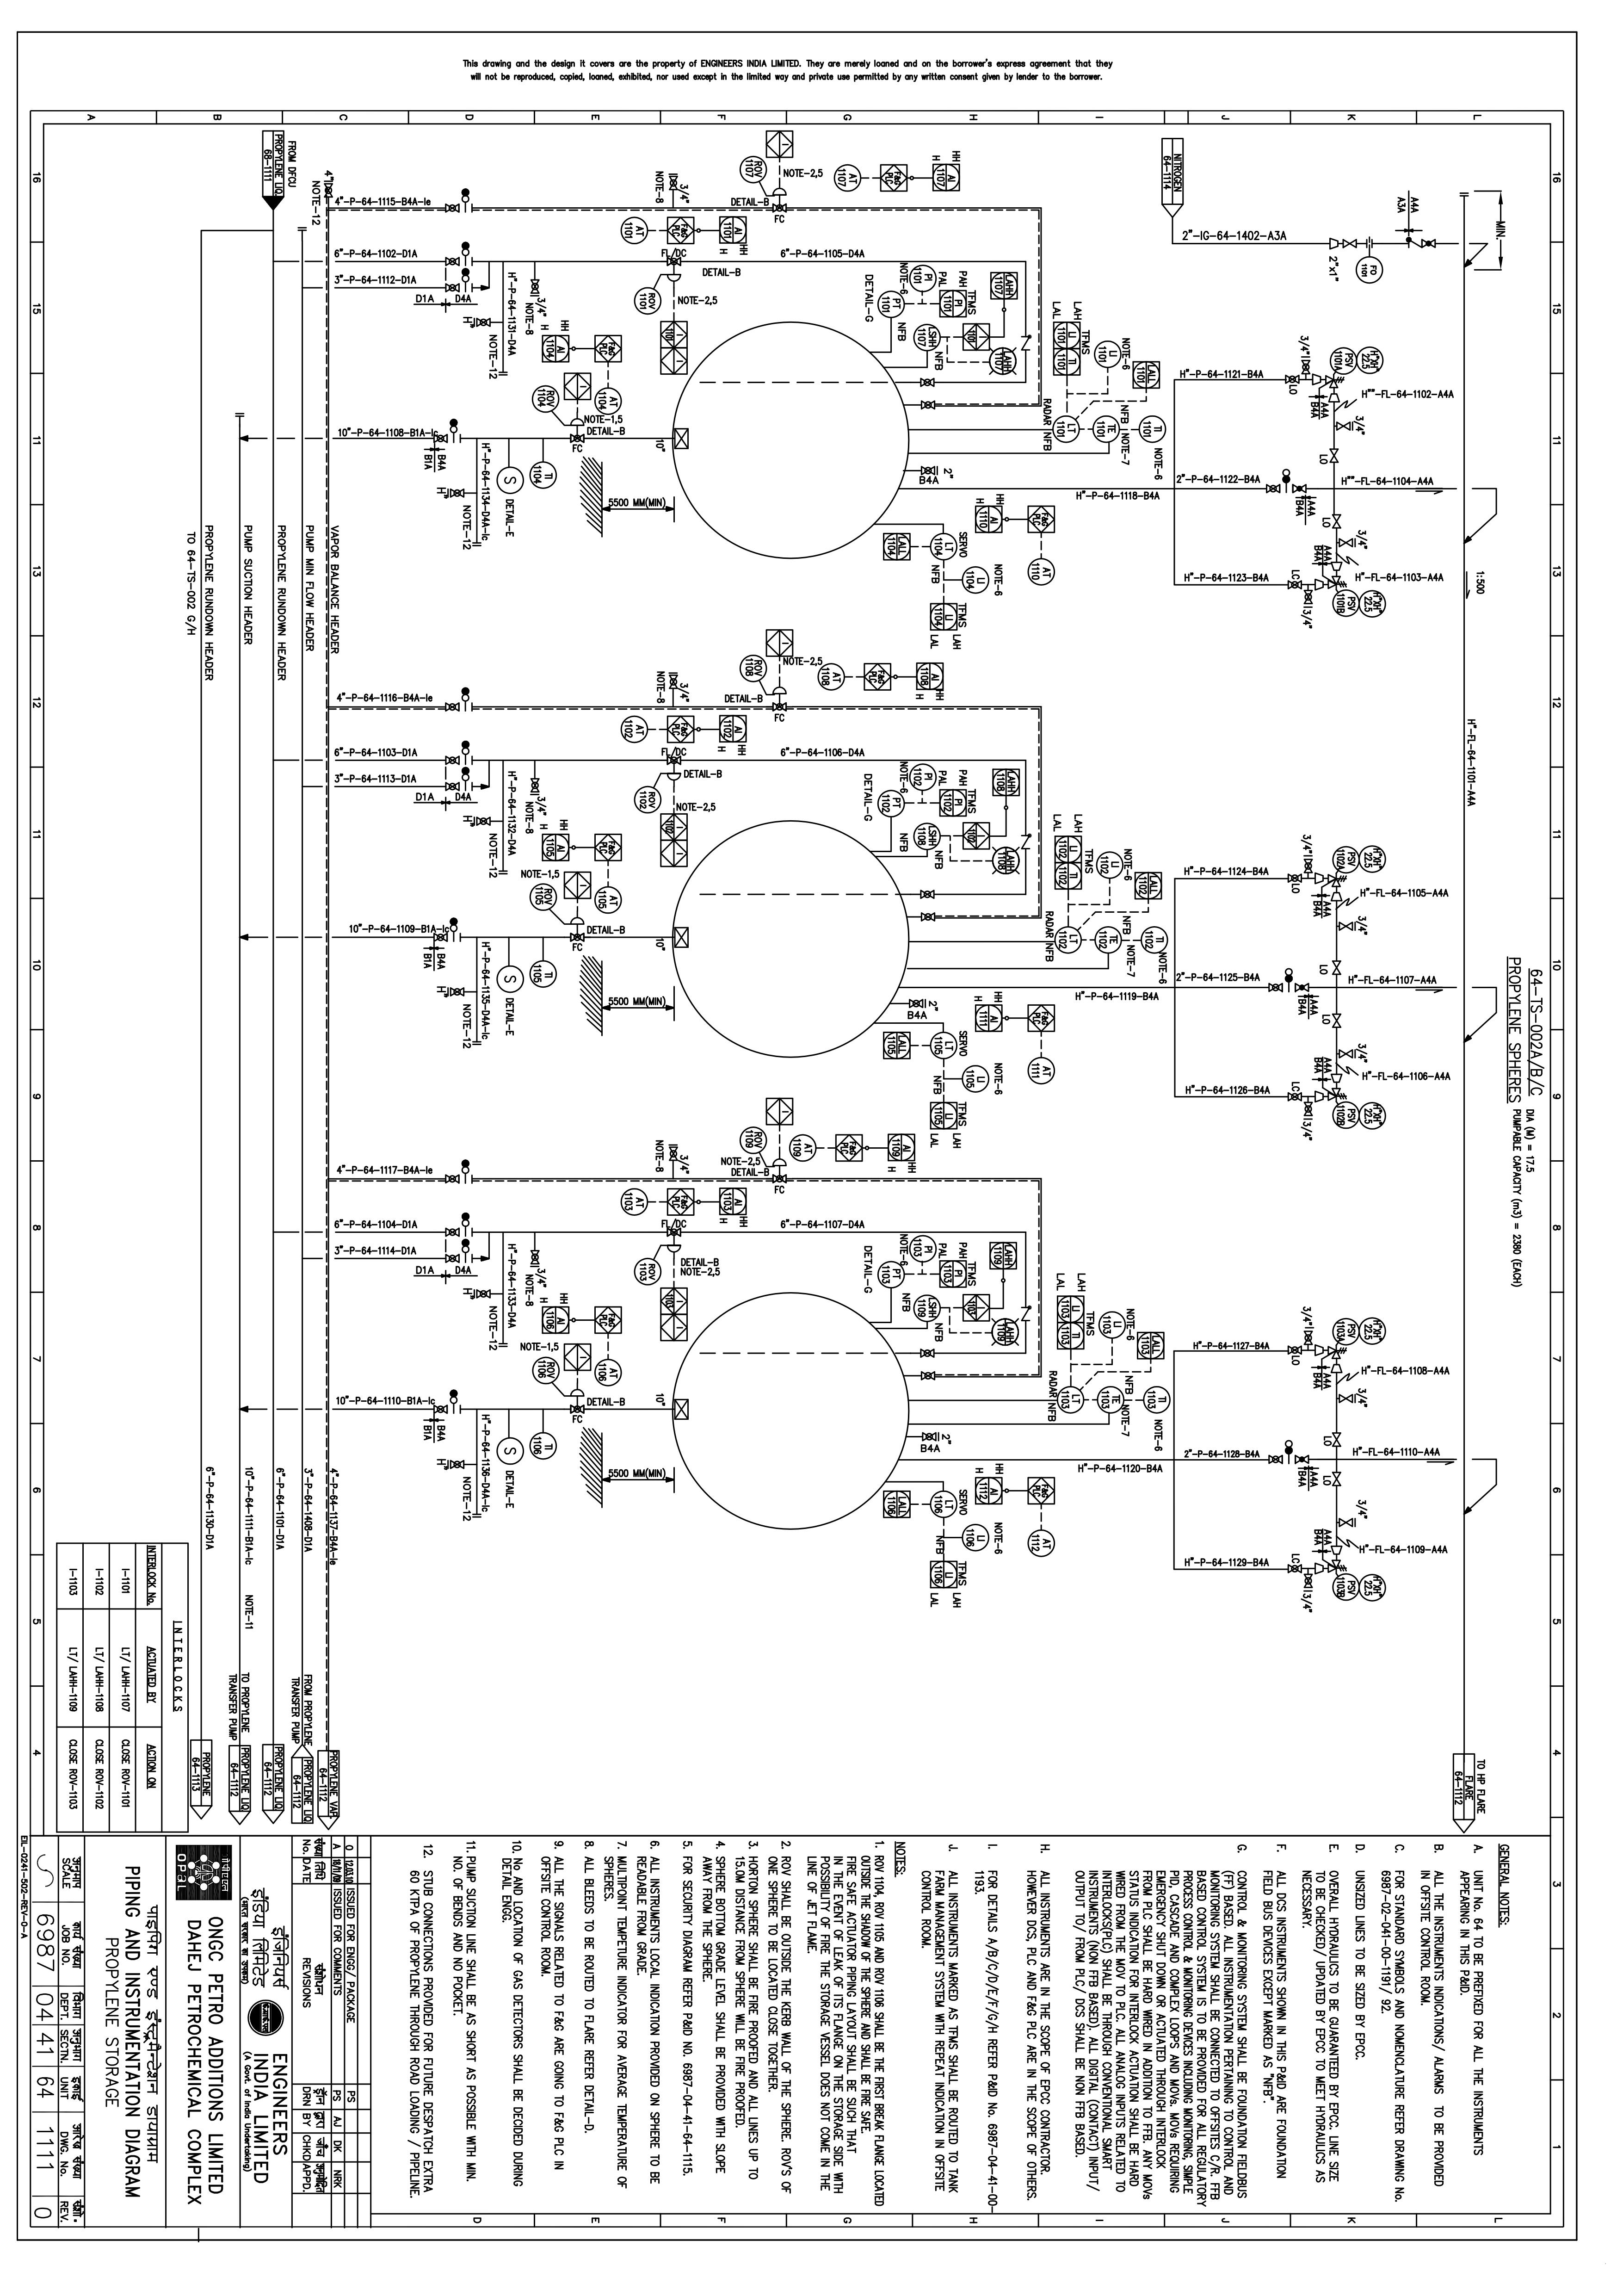ball valve: (1249, 980, 1286, 996), (1328, 1426, 1347, 1453), (525, 272, 545, 297), (766, 699, 796, 715), (664, 1140, 682, 1165), (1265, 1451, 1289, 1469), (320, 179, 337, 204), (1298, 353, 1312, 383), (1335, 418, 1356, 437), (446, 485, 469, 502), (472, 812, 495, 829), (523, 1245, 546, 1263), (1335, 1514, 1358, 1532), (560, 432, 588, 446), (437, 776, 465, 791), (913, 1346, 938, 1361), (917, 397, 941, 413), (666, 169, 682, 193), (443, 1170, 462, 1189), (1300, 1101, 1319, 1121), (1298, 588, 1317, 608), (1340, 235, 1360, 255), (446, 984, 467, 1001), (443, 1223, 464, 1240), (444, 1456, 471, 1470), (1280, 1091, 1307, 1105), (1298, 857, 1316, 878), (901, 996, 927, 1010), (915, 462, 941, 476), (474, 314, 497, 330), (919, 1426, 941, 1442), (662, 1228, 690, 1240), (917, 910, 941, 924), (441, 200, 462, 216), (1295, 1451, 1316, 1467), (1324, 448, 1340, 469), (439, 755, 465, 768), (915, 891, 941, 903), (1331, 538, 1358, 550), (1417, 237, 1444, 249), (443, 255, 465, 269), (439, 281, 462, 295), (915, 1368, 938, 1383), (1261, 483, 1284, 497), (1280, 372, 1303, 386), (1335, 921, 1352, 938), (427, 931, 451, 943), (1331, 1469, 1344, 1493), (1282, 1346, 1307, 1358), (430, 432, 451, 446), (441, 699, 462, 713), (1303, 1572, 1317, 1593), (1337, 1393, 1358, 1407), (1335, 1045, 1356, 1059), (1331, 1012, 1345, 1033), (472, 1284, 494, 1298), (529, 775, 543, 796), (917, 374, 938, 388), (771, 202, 792, 216), (564, 1402, 587, 1414), (1291, 984, 1314, 996), (1331, 957, 1344, 980), (660, 256, 683, 269), (1280, 1562, 1307, 1572), (1302, 1328, 1316, 1347), (567, 929, 587, 943), (429, 1402, 450, 1414), (439, 1251, 460, 1263), (1330, 513, 1342, 534), (1284, 873, 1303, 885), (664, 757, 685, 768), (1286, 581, 1305, 592), (771, 1172, 787, 1182)
